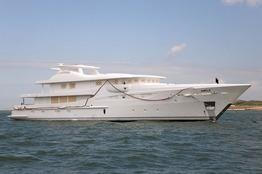yacht: (6, 54, 254, 123)
